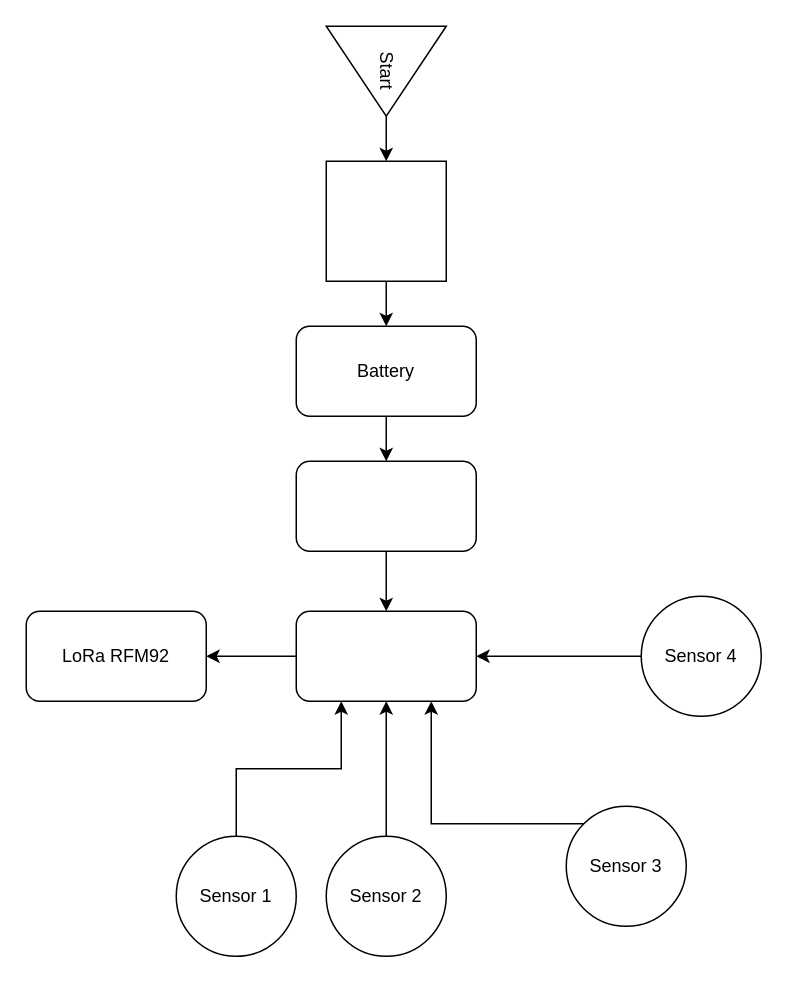
Image size: 788x983. Some labels were removed from this diagram. The centre of each missing label's shape, as x and y in pixels:
"Boost Converter" goes at point 385,505.
"MCU (Arduino Nano)" goes at point 385,655.
"Solar Charger" goes at point 385,220.
